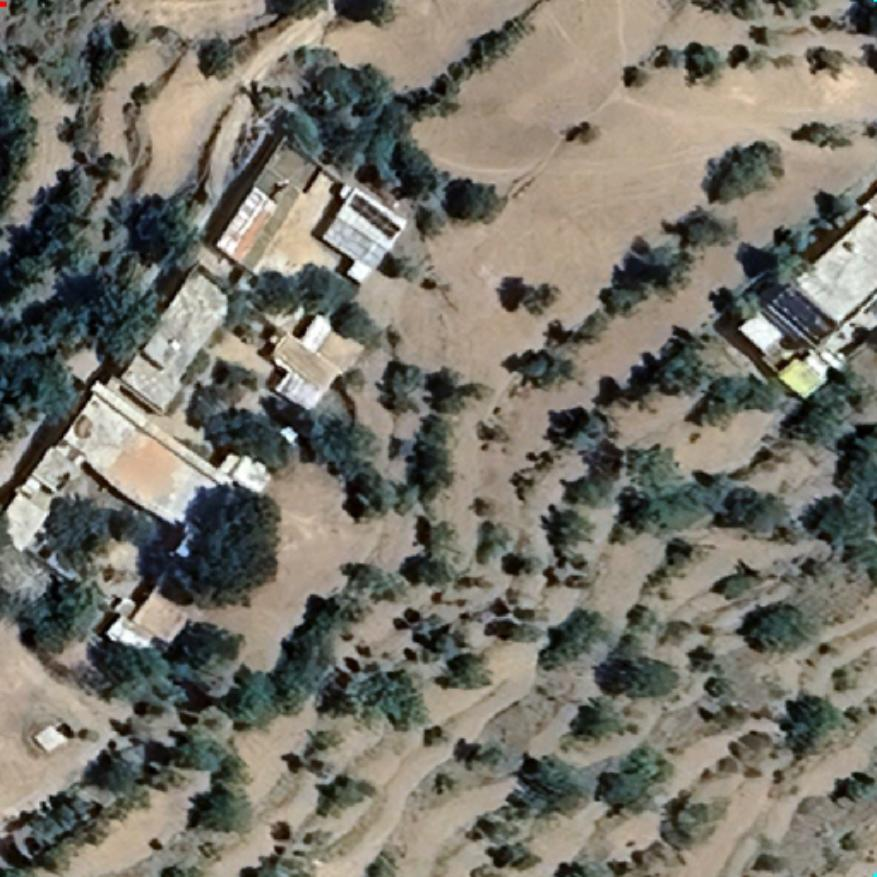Solarpanel: (759, 279, 839, 347), (345, 191, 405, 241)
